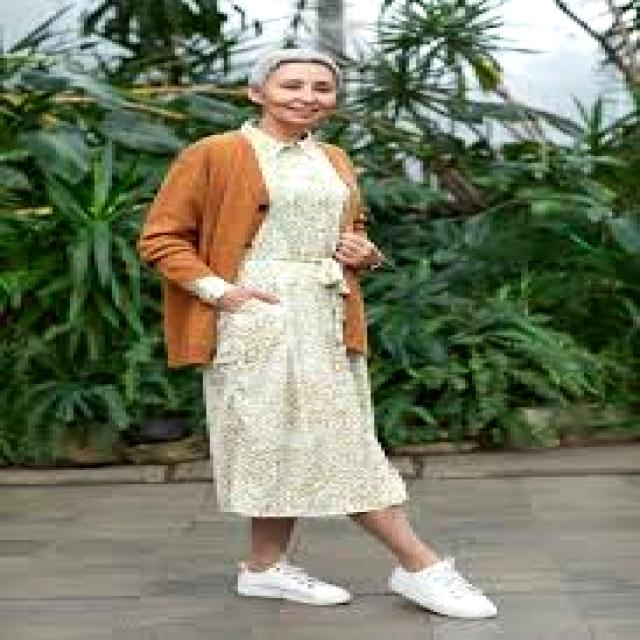dress: (203, 124, 405, 516)
foot-wear: (389, 559, 496, 619), (238, 557, 353, 605)
